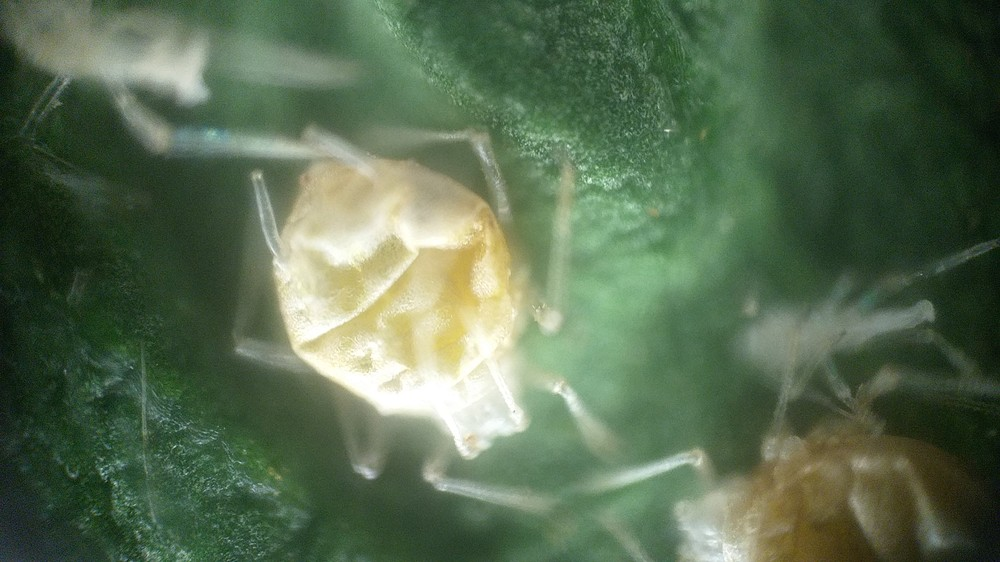Pulgon: (199, 109, 660, 521), (589, 329, 995, 562)
